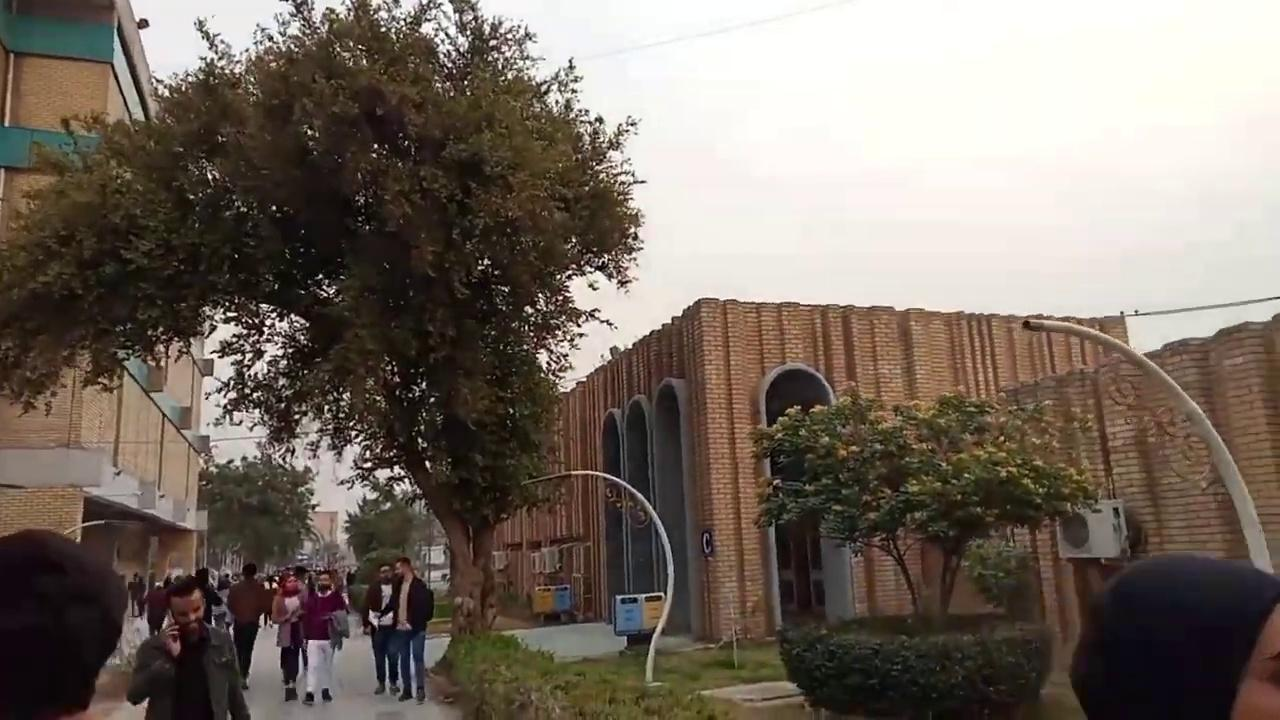person: (1068, 551, 1279, 719), (0, 527, 127, 719), (125, 576, 250, 719), (386, 556, 434, 704), (362, 564, 400, 695)
tree: (1, 0, 647, 665), (745, 383, 1100, 717), (774, 610, 1053, 718), (196, 450, 323, 576), (340, 493, 434, 615)
